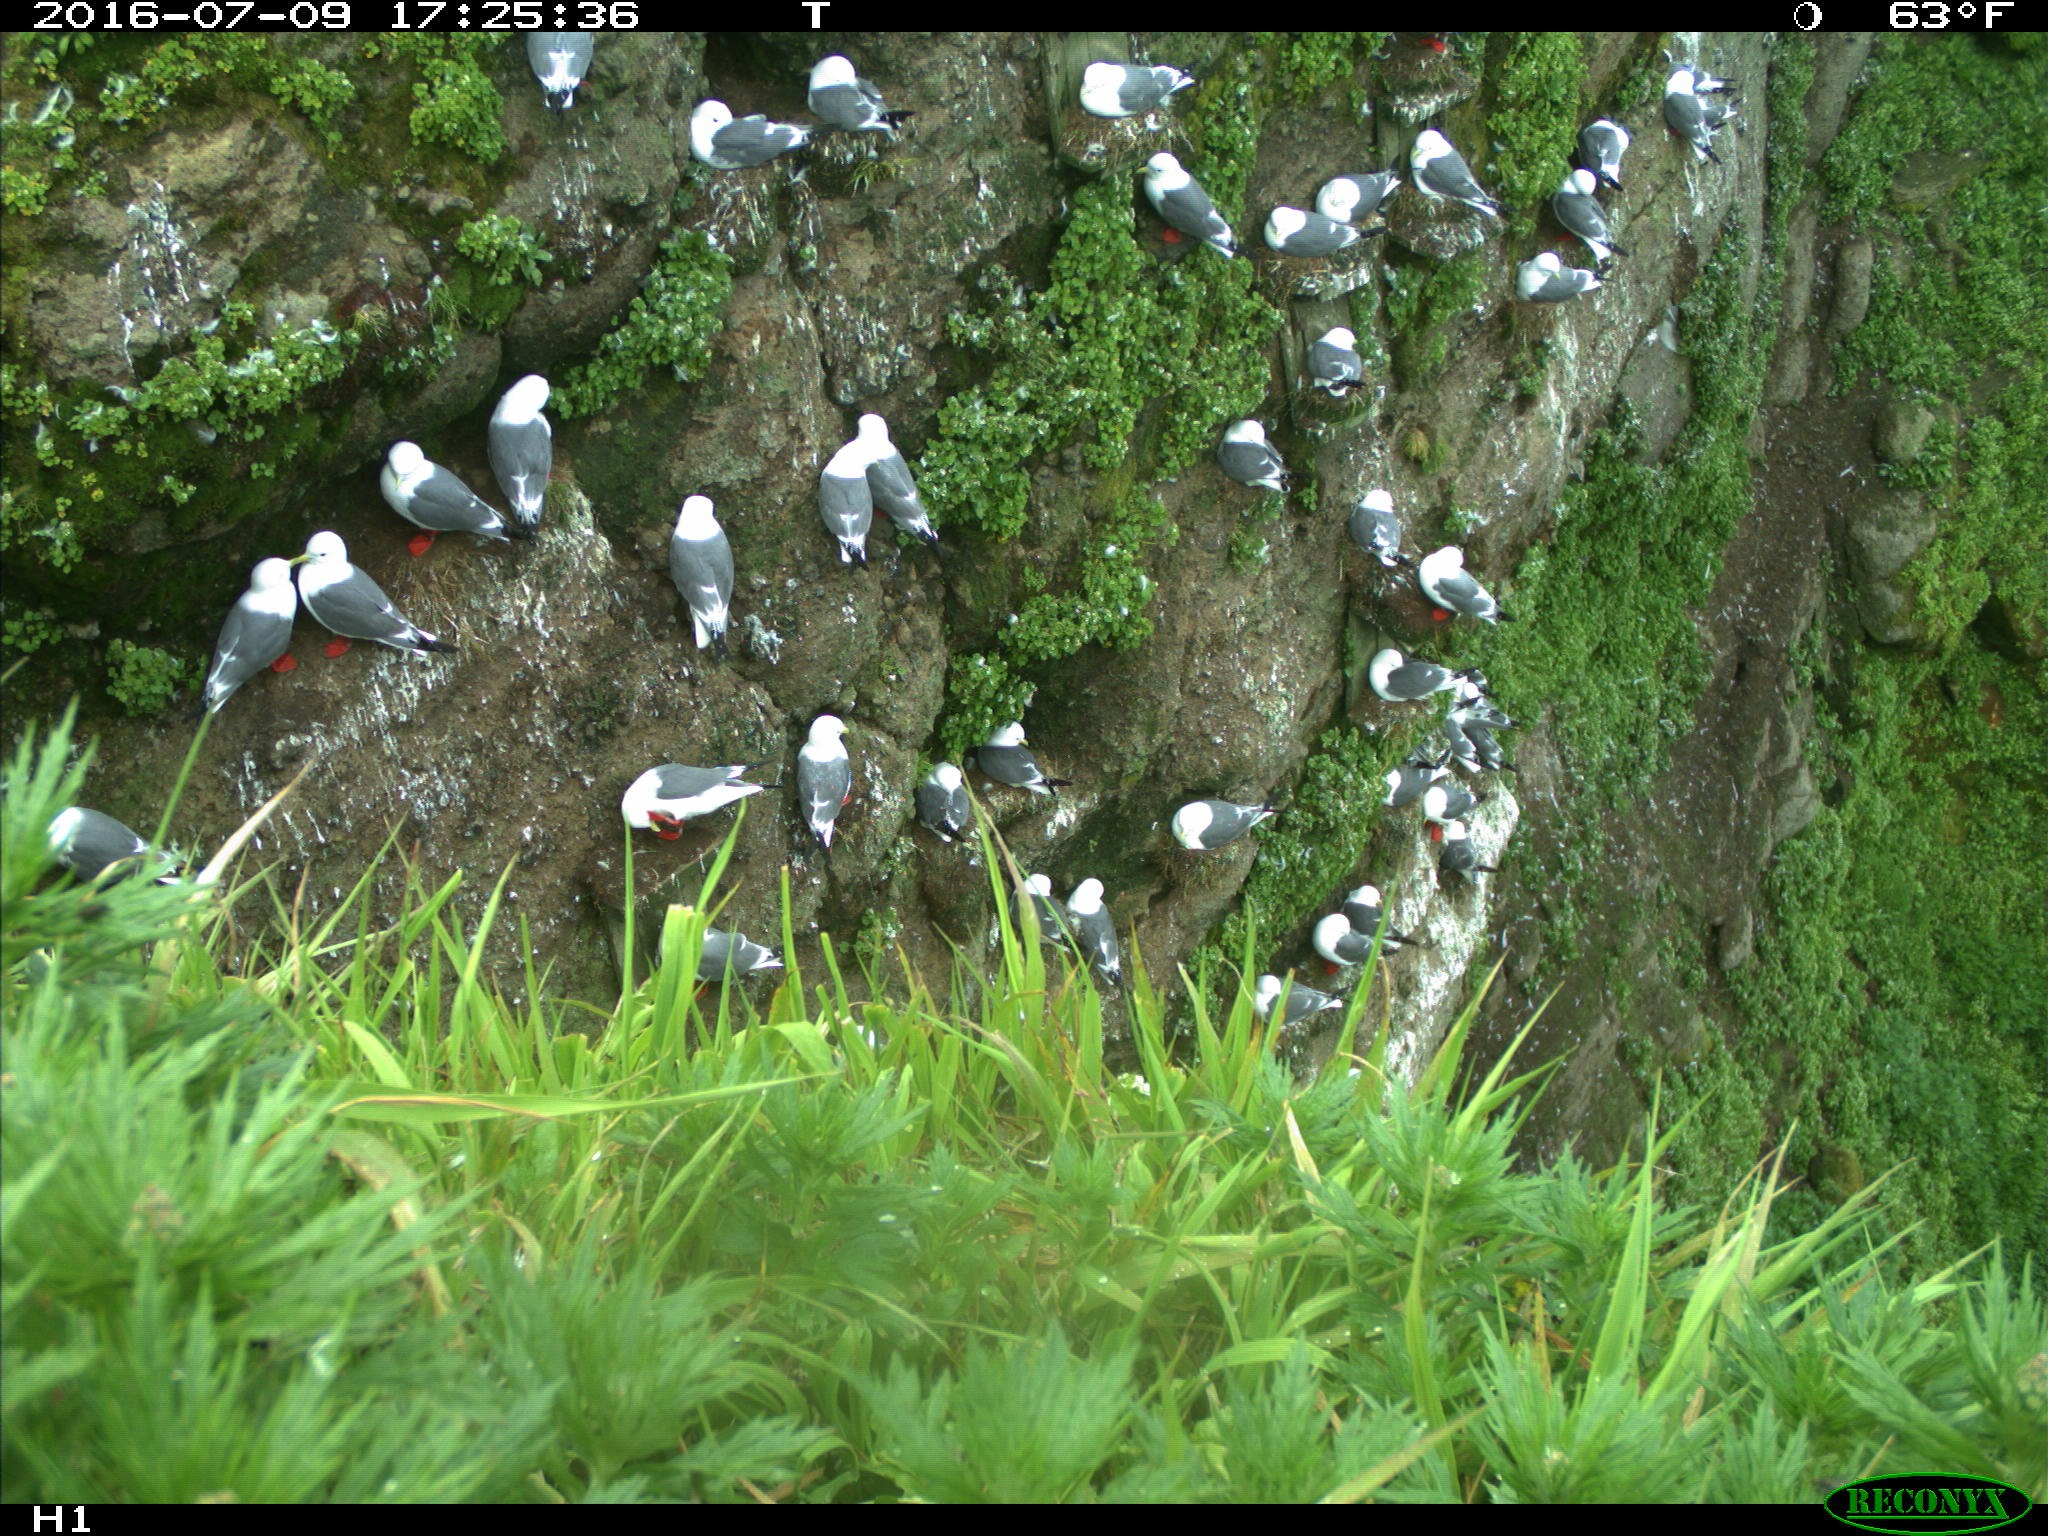Kittiwake: (21, 765, 176, 947), (289, 521, 464, 670), (203, 523, 329, 724), (481, 345, 597, 553), (645, 486, 808, 620), (360, 424, 471, 605), (610, 728, 769, 854), (835, 402, 974, 537), (689, 69, 827, 195), (1134, 137, 1250, 287), (780, 705, 892, 850), (810, 432, 908, 595), (971, 695, 1092, 821), (1392, 115, 1508, 242), (674, 900, 805, 1013), (1137, 768, 1287, 855), (1051, 45, 1205, 129), (1284, 315, 1421, 403), (789, 47, 921, 137), (1192, 408, 1316, 503), (1263, 168, 1358, 282), (1321, 866, 1450, 947), (1505, 229, 1609, 324), (1563, 110, 1650, 219), (1600, 74, 1684, 186), (903, 737, 982, 855), (1342, 465, 1426, 573), (518, 18, 610, 115), (1056, 870, 1124, 1000), (1306, 140, 1397, 237), (903, 879, 963, 1025), (1293, 913, 1395, 997), (990, 850, 1059, 971), (1521, 179, 1622, 261), (1356, 624, 1480, 687), (1251, 960, 1329, 1058), (1413, 529, 1479, 637), (1417, 771, 1487, 858), (1372, 741, 1437, 815)
